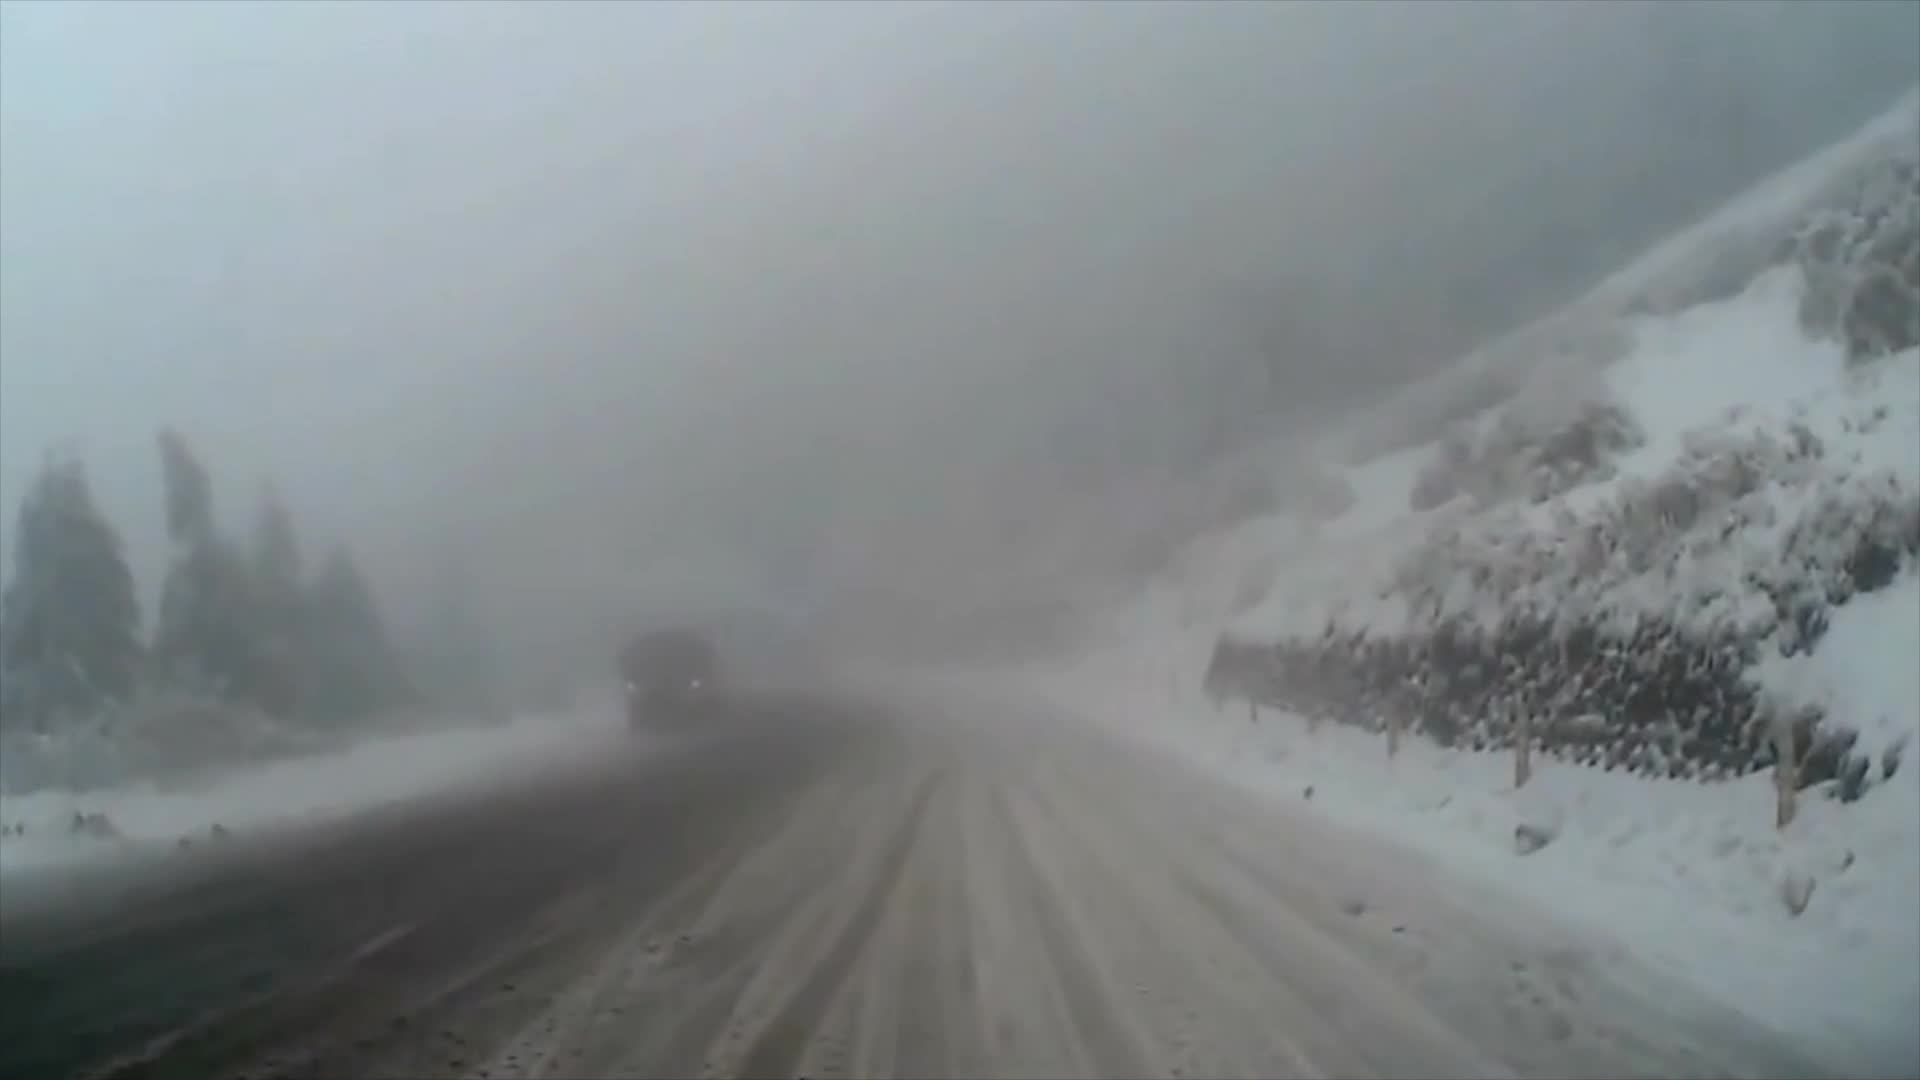vehicle: (615, 625, 725, 721)
